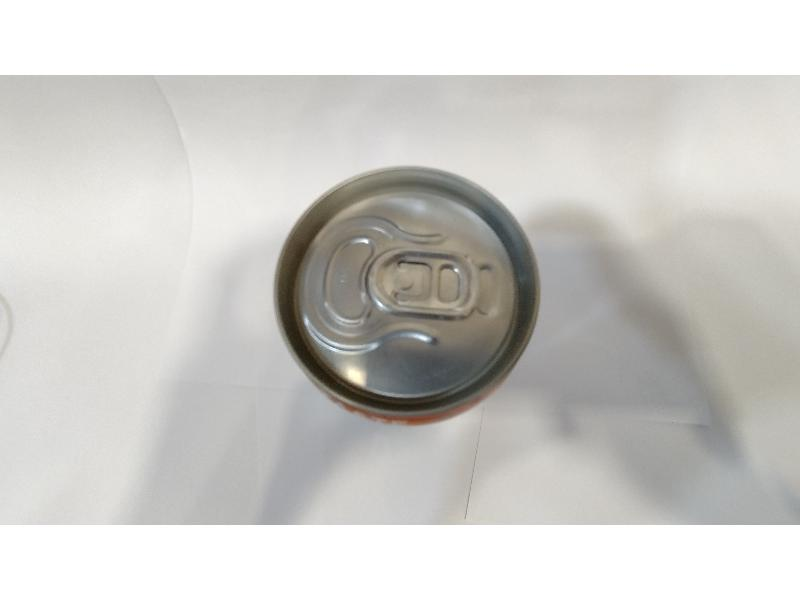can: (273, 162, 546, 425)
